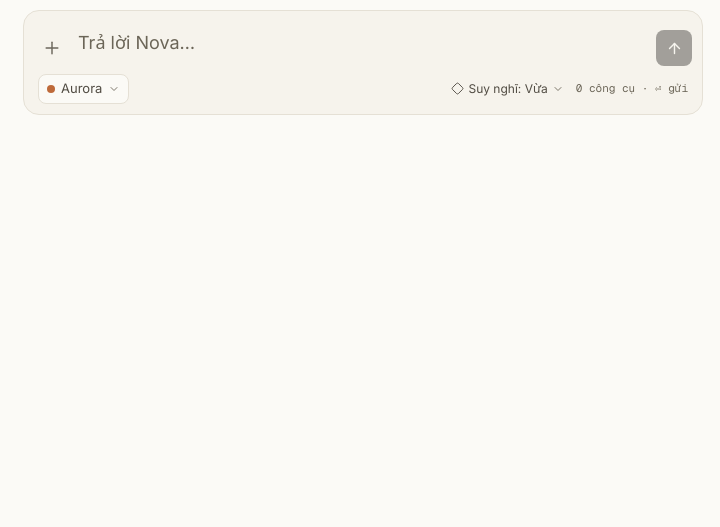
it: <Composer> › opens the "add to chat" menu (Radix) and lists tools
This screenshot has width=720, height=527.
Click the button named "Thêm vào chat".
click(52, 48)  # box [34,30,70,66]
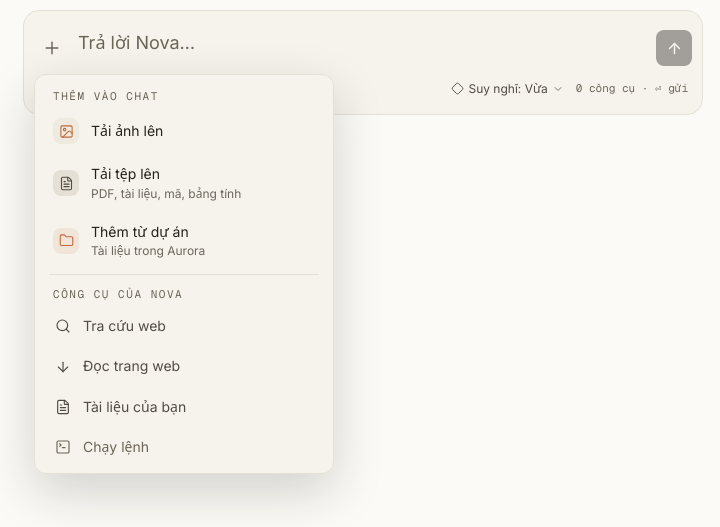
Result: the text "Tải ảnh lên" is shown at [91,121,163,142]
Result: the text "Tra cứu web" is shown at [83,317,166,334]
